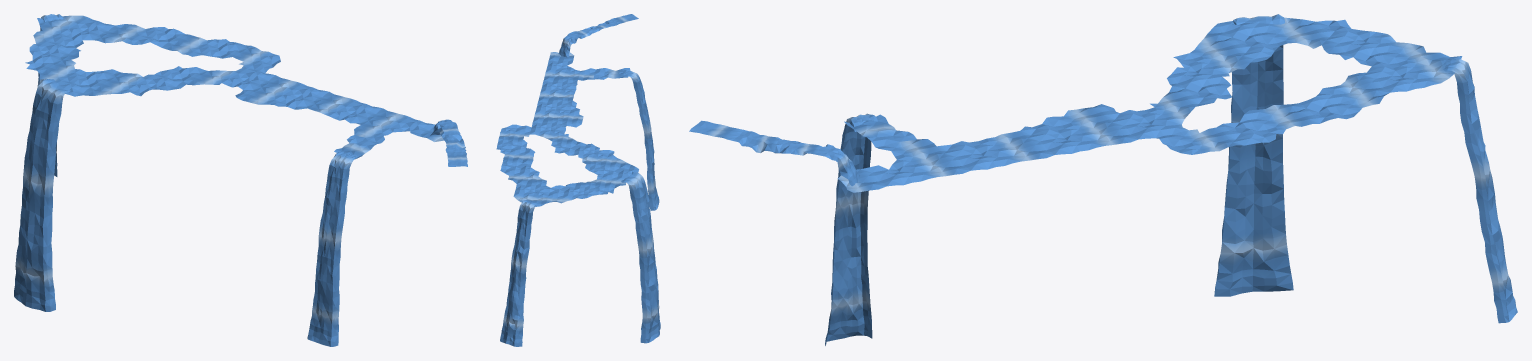
The model's file is GEO_hightown_river_static_v2.fbx.
The picture shows the model from 3 angles, left to right: view 1: azimuth 30°, elevation 25°; view 2: azimuth 150°, elevation 25°; view 3: azimuth 270°, elevation 25°; orthographic projection. The views are drawn at different scales.
Parts seen in each view (by area): view 1: river_tiles, waterfall_1, waterfall_2, small_waterfall_1; view 2: river_tiles, waterfall_1, waterfall_3, waterfall_2, small_waterfall_1; view 3: river_tiles, waterfall_1, waterfall_2, waterfall_3, small_waterfall_1.
Boxes of the visible parts, bbox=[...] form: river_tiles: bbox=[25, 15, 443, 159]; waterfall_1: bbox=[14, 79, 70, 311]; waterfall_2: bbox=[307, 151, 358, 346]; small_waterfall_1: bbox=[430, 119, 467, 166]; river_tiles: bbox=[496, 52, 638, 206]; waterfall_1: bbox=[621, 171, 660, 343]; waterfall_3: bbox=[500, 200, 537, 346]; waterfall_2: bbox=[623, 70, 659, 210]; small_waterfall_1: bbox=[558, 14, 638, 57]; river_tiles: bbox=[837, 17, 1462, 192]; waterfall_1: bbox=[1214, 14, 1293, 296]; waterfall_2: bbox=[825, 113, 877, 345]; waterfall_3: bbox=[1443, 58, 1517, 323]; small_waterfall_1: bbox=[689, 120, 859, 186].
Bounding box in the file's own units: 254 × 193 × 456.
